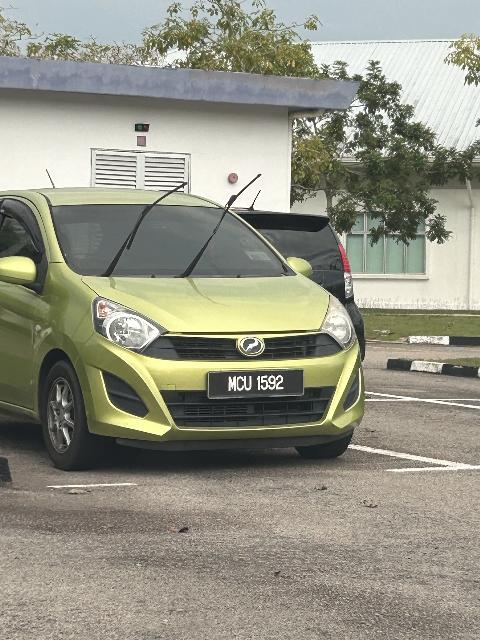License_Plate: (209, 372, 305, 396)
car: (1, 184, 369, 460)
